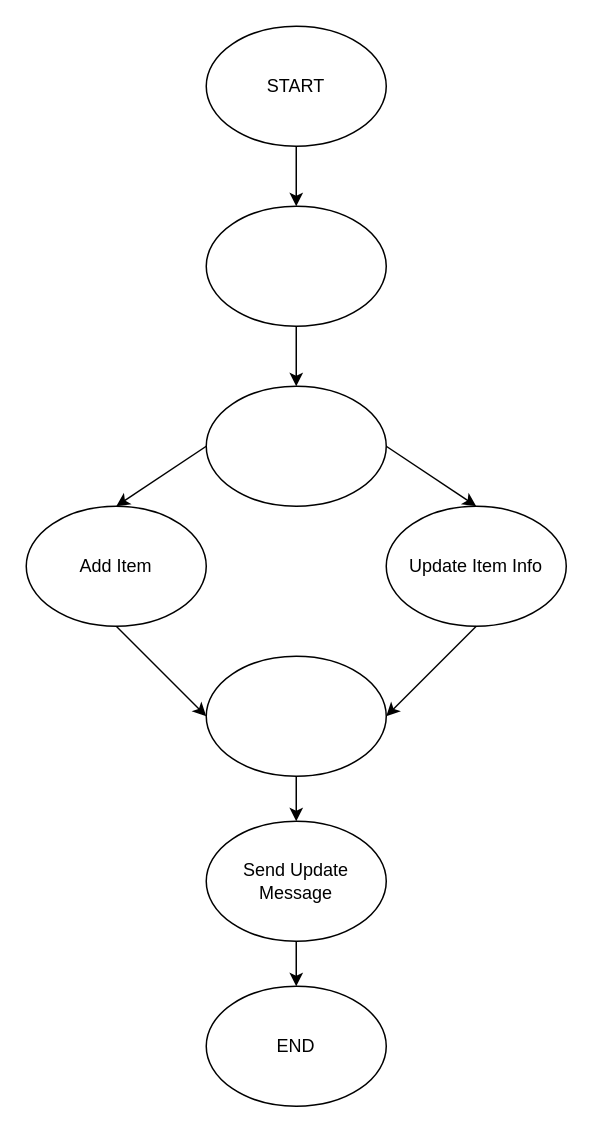
Some shapes in this 593 by 1133 pixel diagram are drawn without their labels. Here are the shapes that lost their labels. From the top down, the centre of each, then its label:
At [295,265]: "Read Message".
At [295,445]: "Classify Message".
At [295,715]: "Notify Update".
